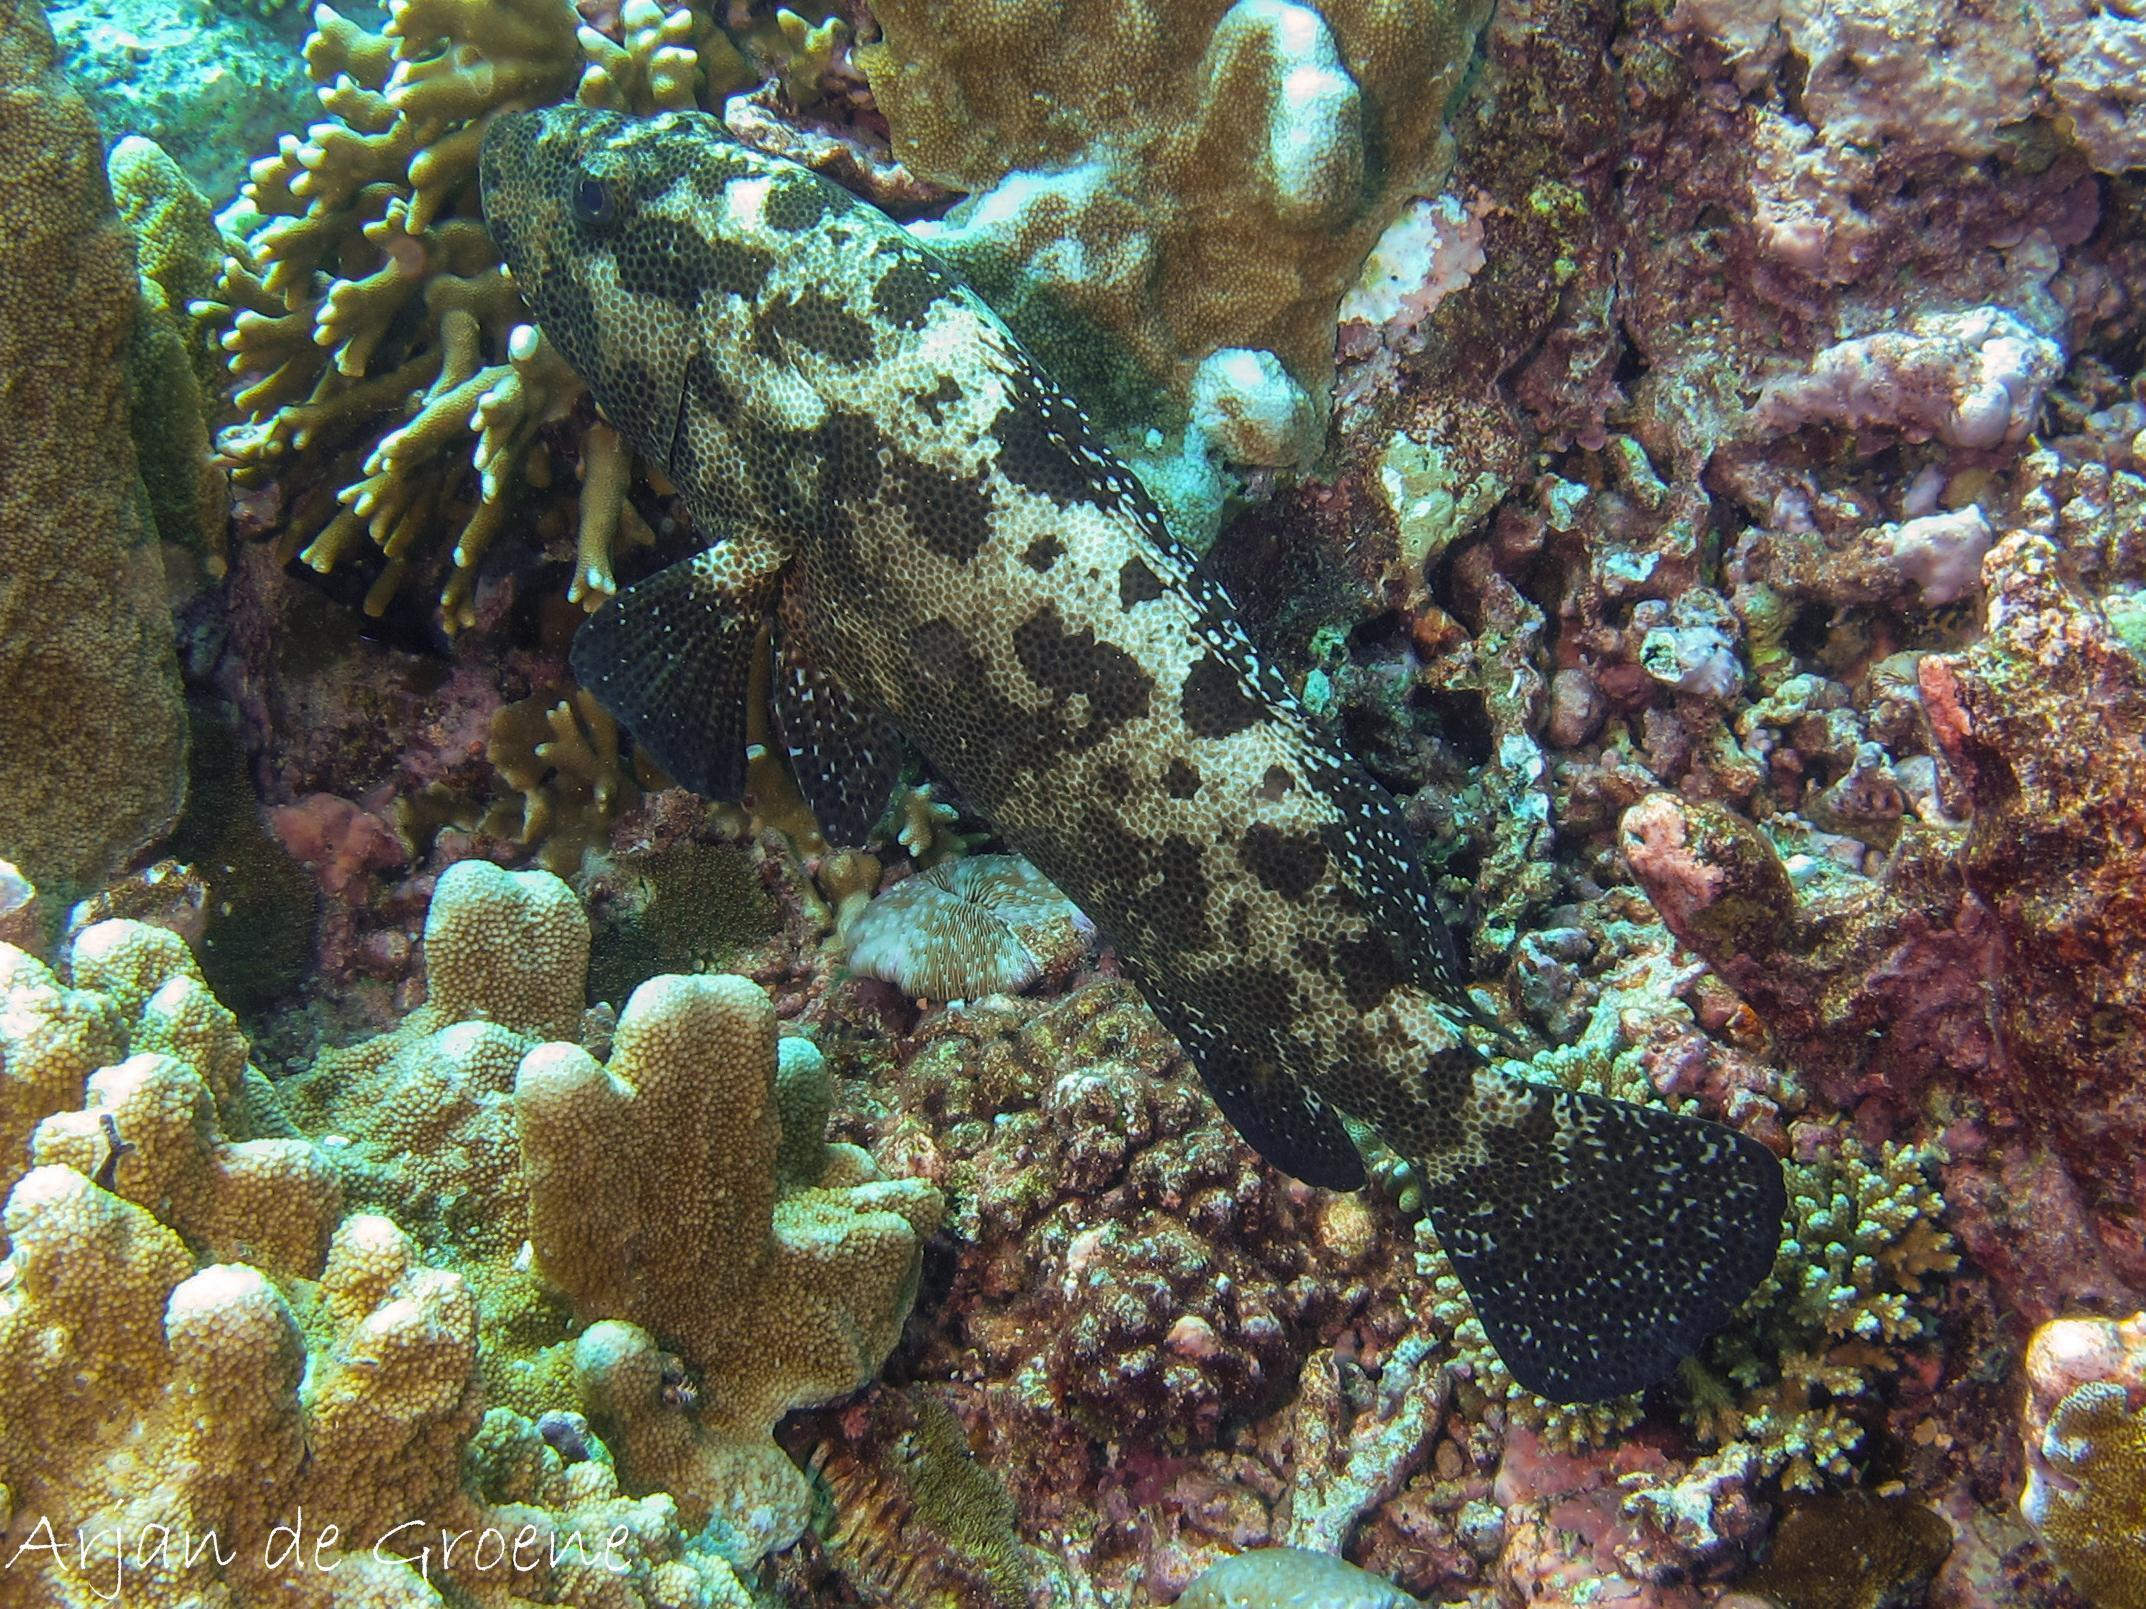Fish: (460, 78, 1805, 1413)
